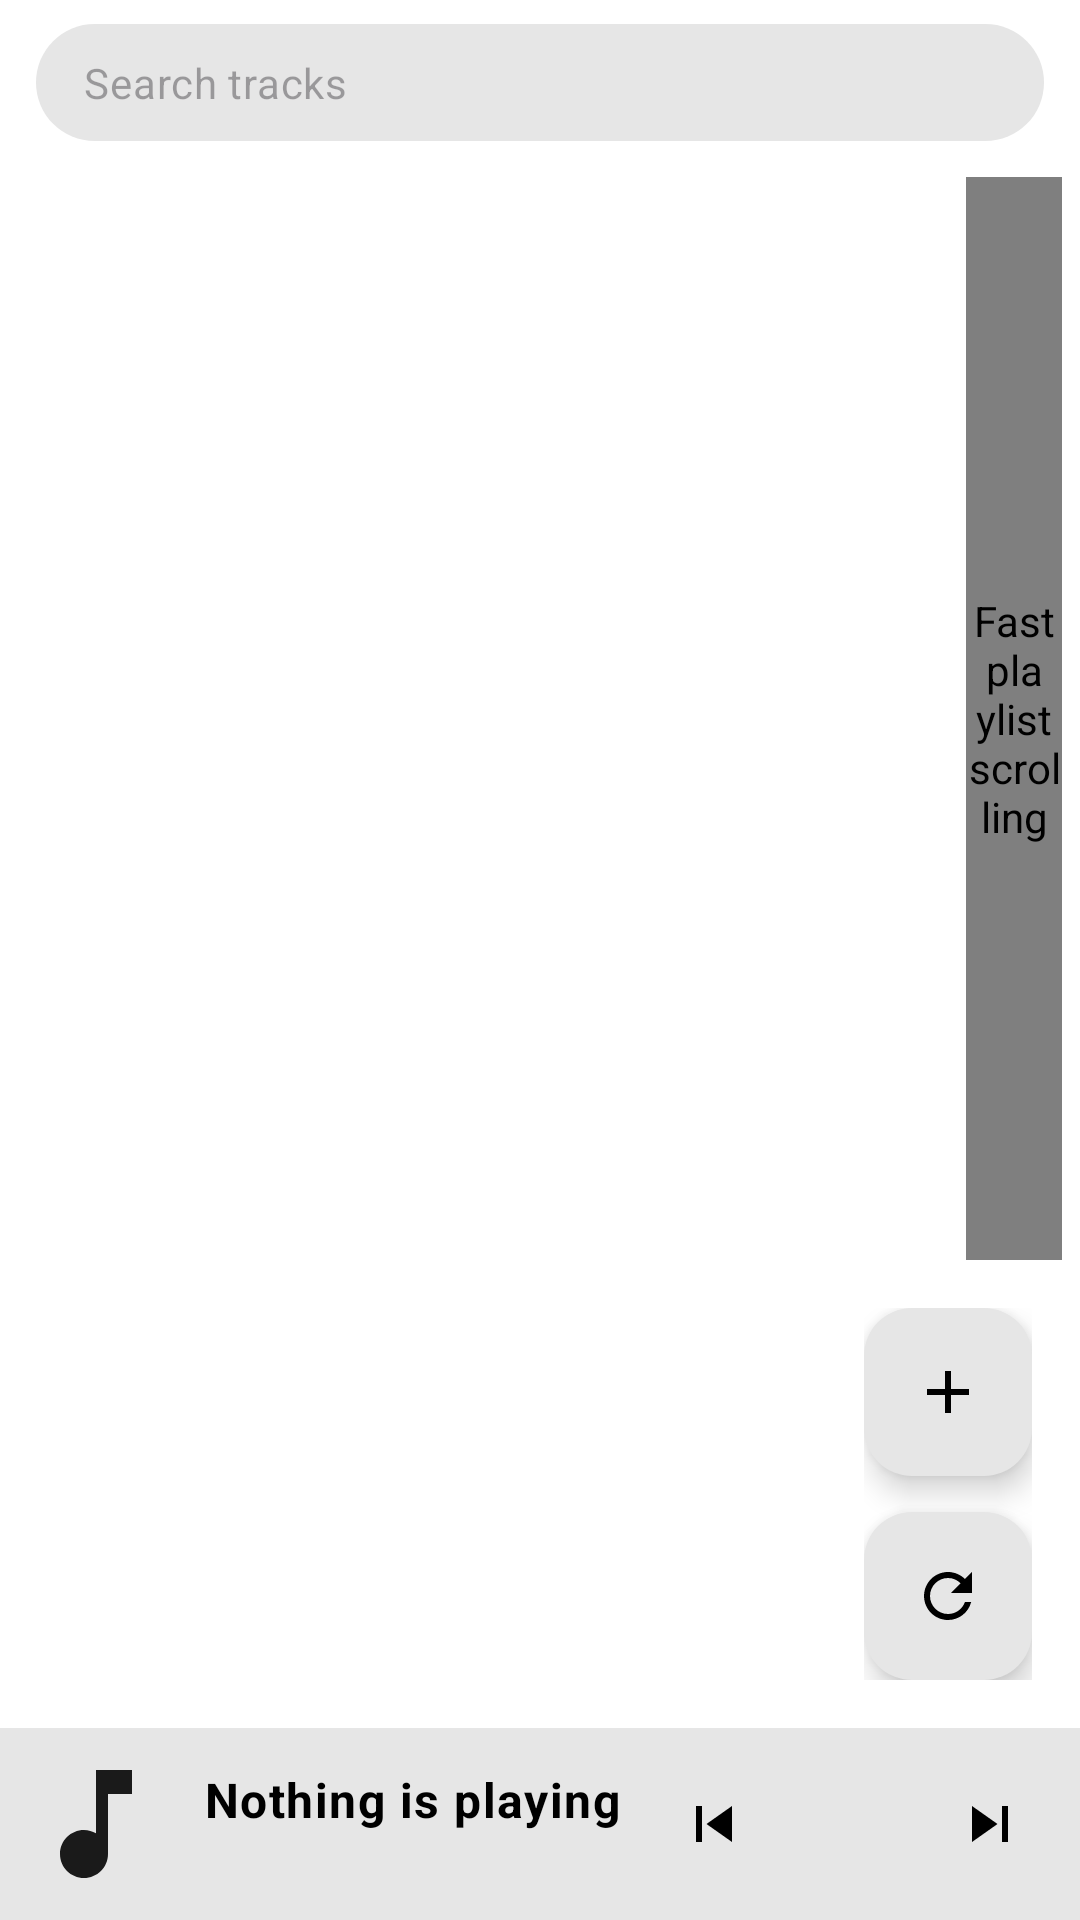

Icon click points for this 1080*1920 phone screenshot, format (x=x, y=y):
Add tracks: (x=948, y=1392)
Cover art: (x=96, y=1824)
Next: (x=990, y=1824)
Previous: (x=714, y=1824)
Refresh playlist: (x=948, y=1596)
